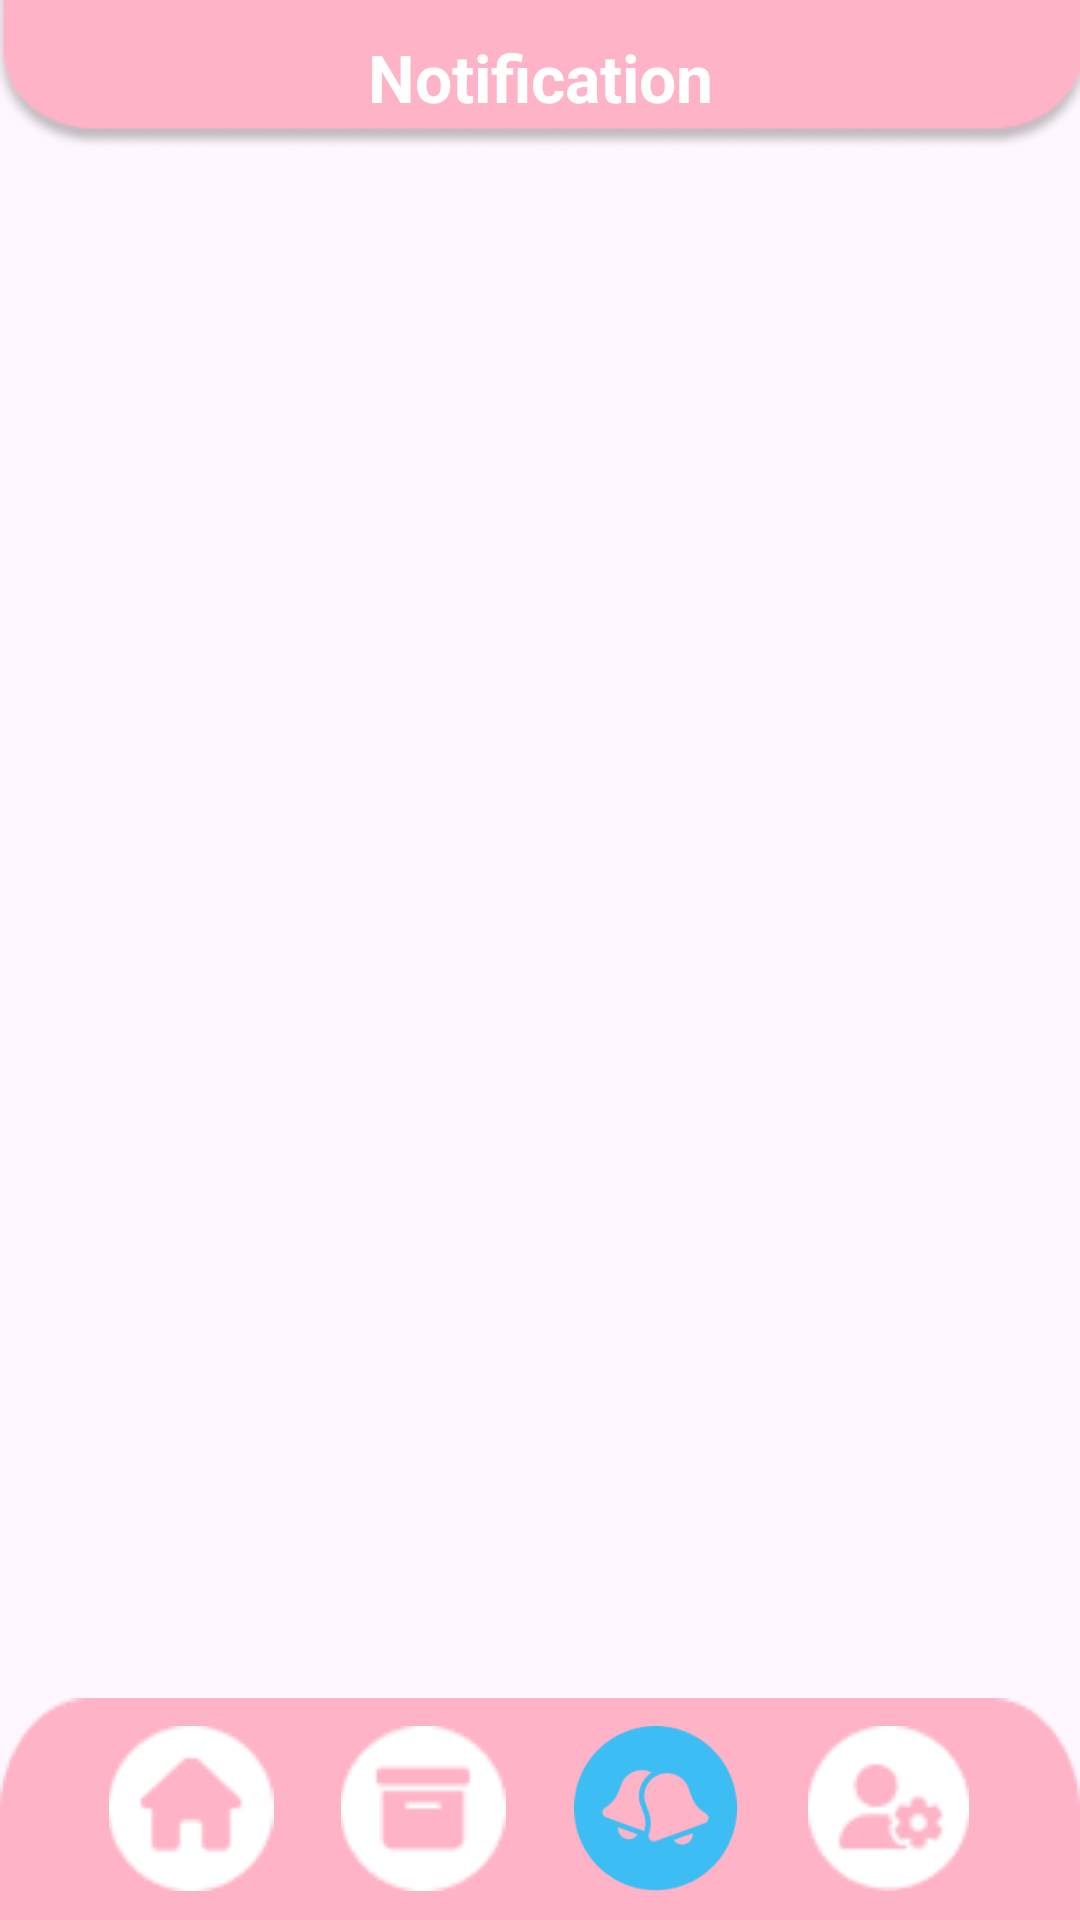

Named icons in this screenshot (1080px×1920px) and their centers, (x,y):
archive: (423,1808)
home: (191,1808)
notification: (655,1808)
setting: (888,1808)
